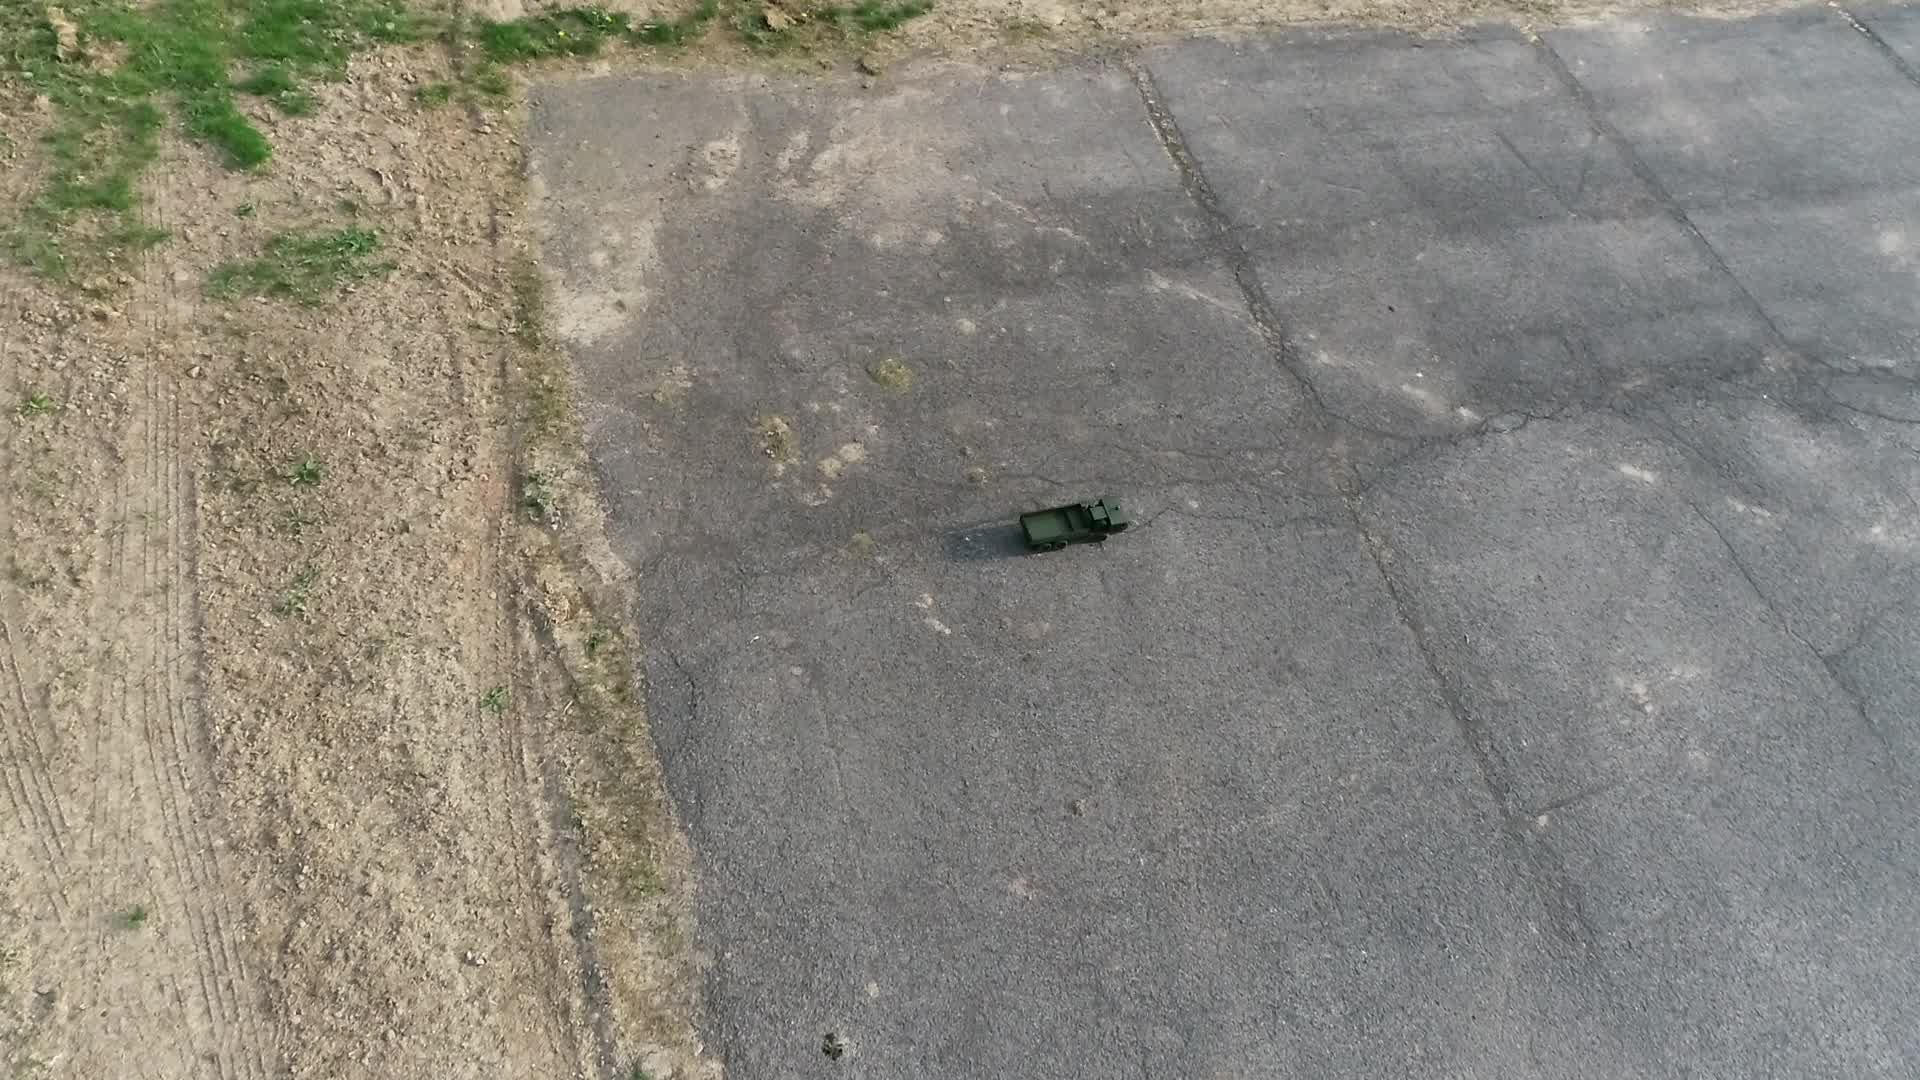transporter9: (1014, 489, 1133, 556)
